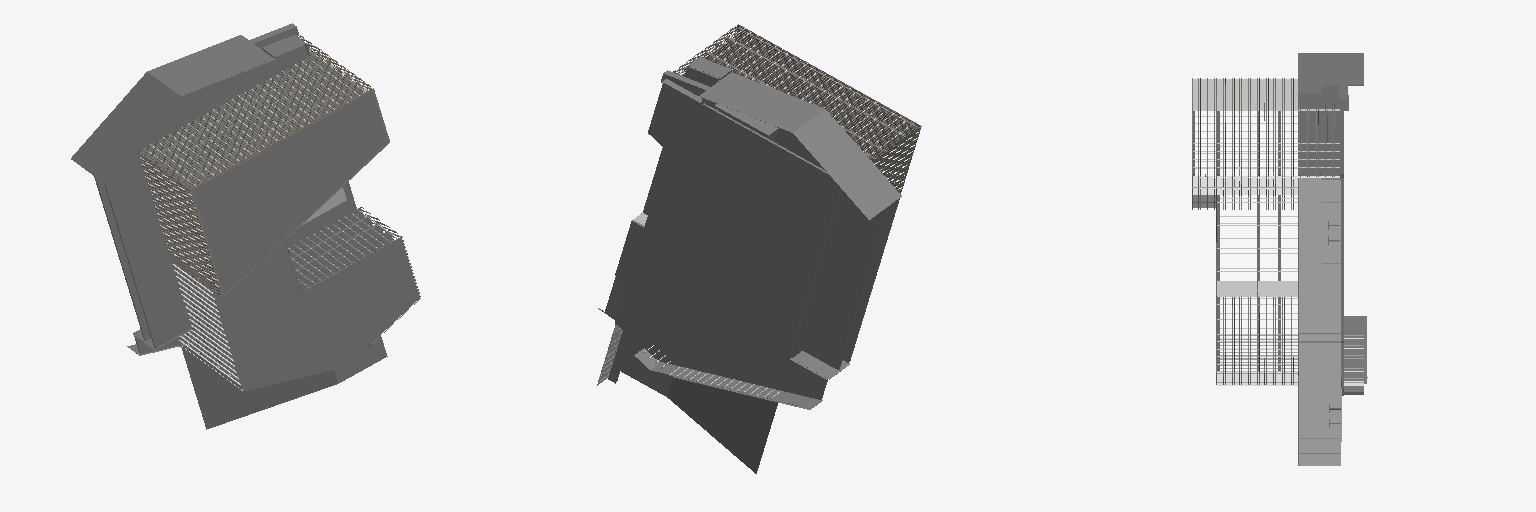
File: Site9-NewBldg.obj
3 views of the same model, side by side, from view 1: azimuth 30°, elevation 25°; view 2: azimuth 150°, elevation 25°; view 3: azimuth 270°, elevation 25° (orthographic).
Bounding box in the file's own units: 219 × 279 × 116.